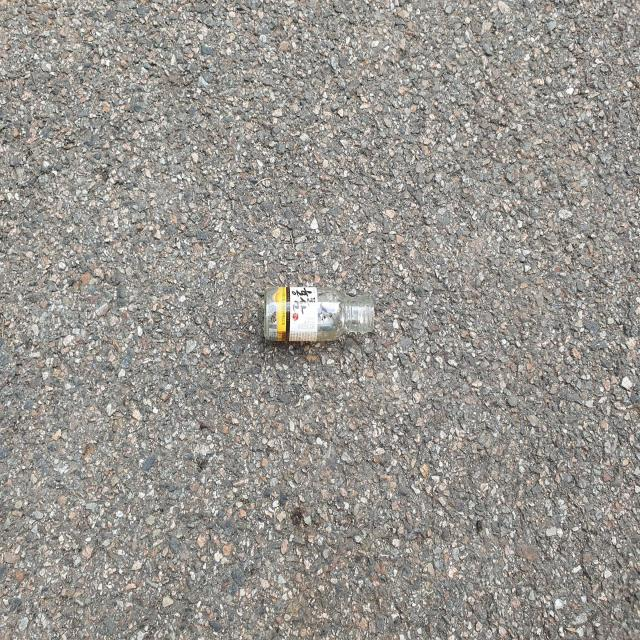glass: (264, 286, 375, 342)
